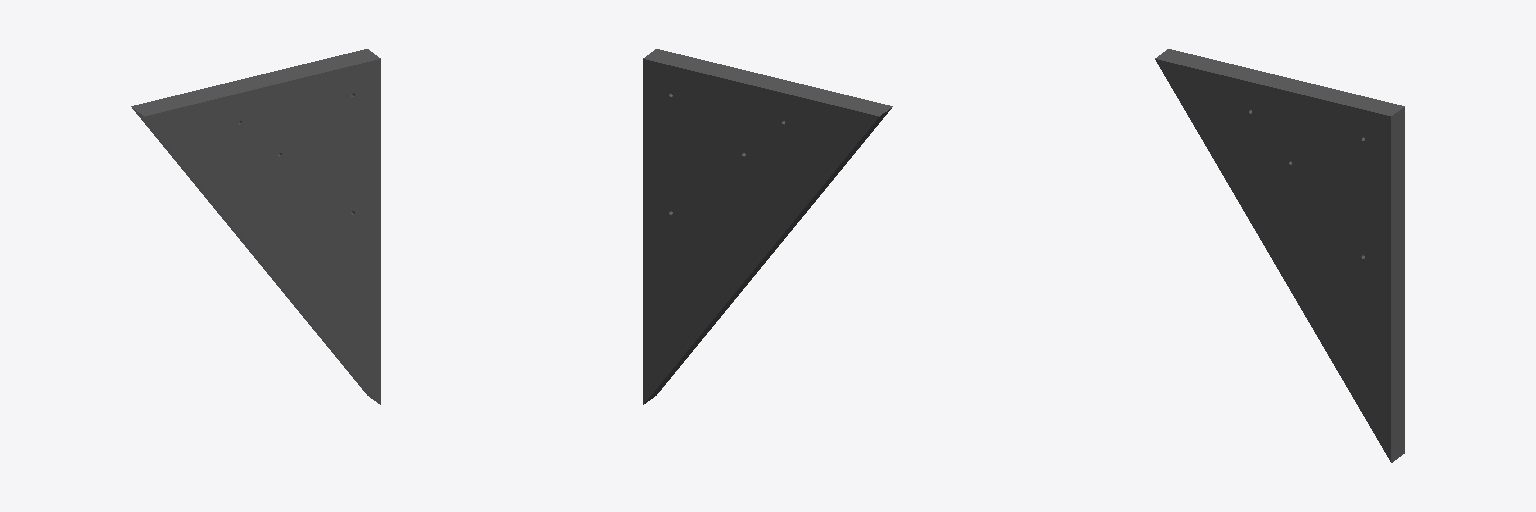
The model's file is tri3.obj.
The picture shows the model from 3 angles: view 1: azimuth 30°, elevation 25°; view 2: azimuth 150°, elevation 25°; view 3: azimuth 330°, elevation 25°; orthographic projection.
Visible parts, largest first — view 1: StainlessSteel_tri2, StainlessSteel_tri3; view 2: StainlessSteel_tri2, StainlessSteel_tri3; view 3: StainlessSteel_tri3, StainlessSteel_tri2.
Boxes of the visible parts, x1,y1,x2,y2 form: StainlessSteel_tri2: [131, 49, 380, 354]; StainlessSteel_tri3: [132, 59, 380, 404]; StainlessSteel_tri2: [643, 49, 892, 352]; StainlessSteel_tri3: [643, 59, 891, 404]; StainlessSteel_tri3: [1155, 59, 1404, 462]; StainlessSteel_tri2: [1155, 49, 1404, 409].
Bounding box in the file's own units: 0.126 × 0.1766 × 0.0127.